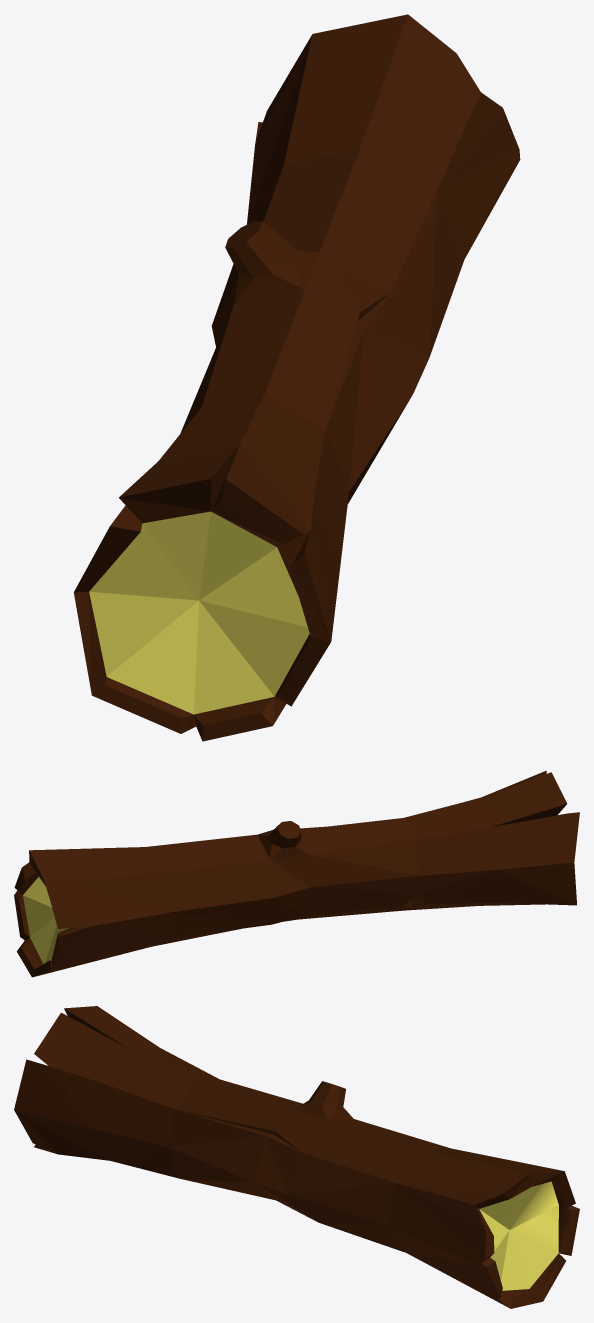
The model's file is ChoppedFloordeadWinterTree.fbx.
3 views of the same model, one above another, from view 1: azimuth 30°, elevation 25°; view 2: azimuth 150°, elevation 25°; view 3: azimuth 270°, elevation 25° (orthographic). The views are drawn at different scales.
Parts seen in each view (by area): view 1: Low-poly trees.009; view 2: Low-poly trees.009; view 3: Low-poly trees.009.
Boxes of the visible parts, x1,y1,x2,y2 form: Low-poly trees.009: (73,14,520,741); Low-poly trees.009: (14,770,579,977); Low-poly trees.009: (14,1006,579,1308).
Bounding box in the file's own units: 59.92 × 19.27 × 68.24.
